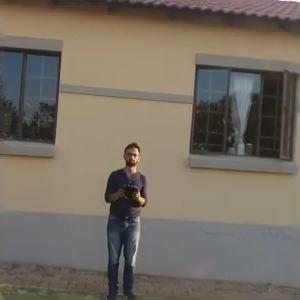follow: (100, 137, 150, 298)
